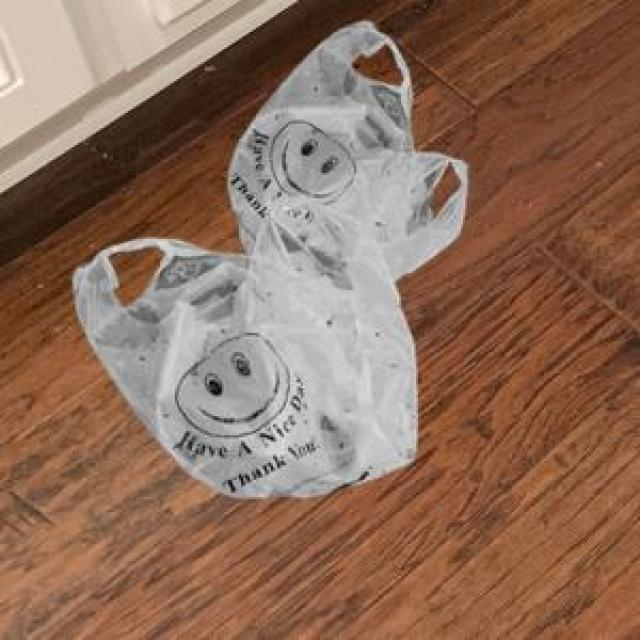waste: (74, 22, 468, 497)
